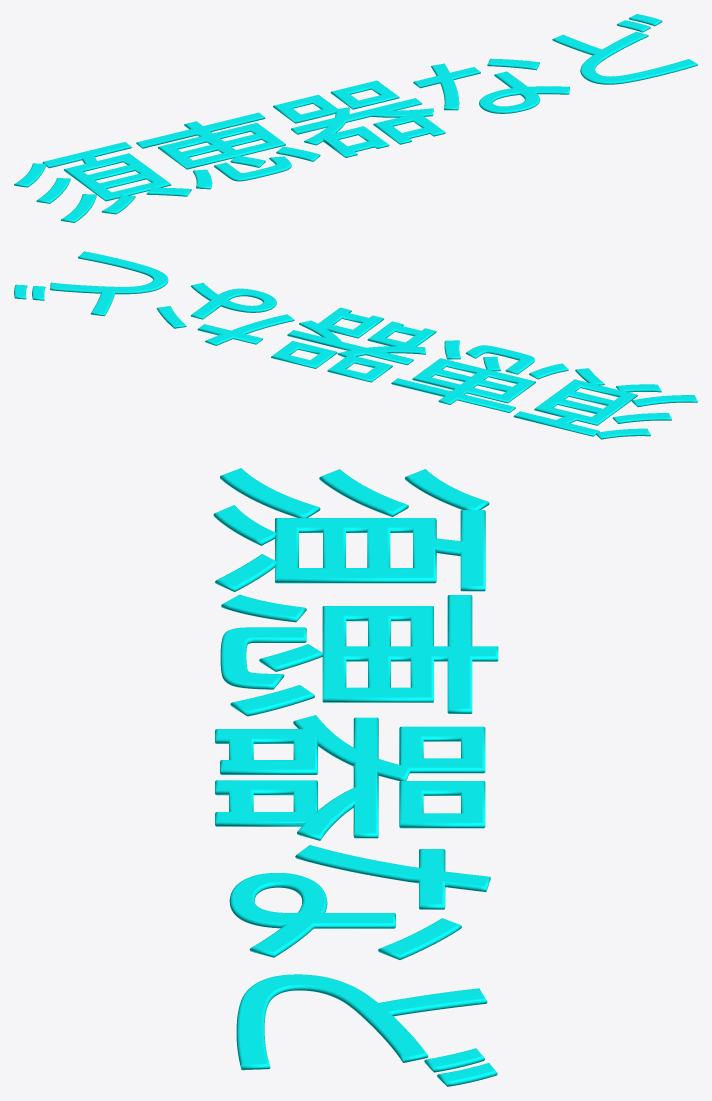
3 renders of one model, top to bottom at view 1: azimuth 30°, elevation 25°; view 2: azimuth 150°, elevation 25°; view 3: azimuth 270°, elevation 25°, orthographic. The views are drawn at different scales.
Visible parts, largest first — view 1: テキスト; view 2: テキスト; view 3: テキスト.
Part boxes in pixels (x1,y1,x2,y2): テキスト: [14, 14, 697, 222]; テキスト: [14, 251, 697, 439]; テキスト: [213, 468, 498, 1086].
Size of the model in its own units: 4.99 by 0.02 by 0.9752.
